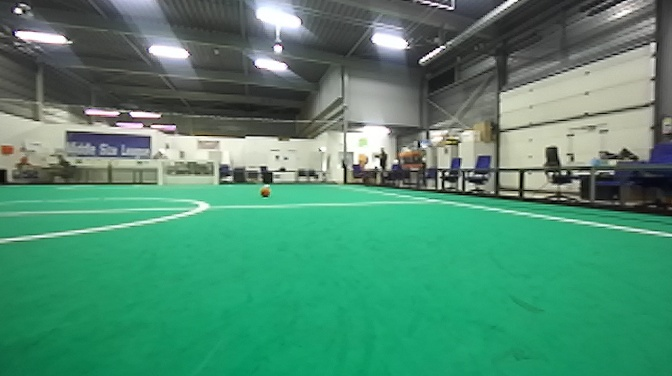ball: (257, 182, 275, 201)
goal: (157, 160, 220, 190)
goalpost: (156, 158, 165, 189), (213, 159, 219, 189)
